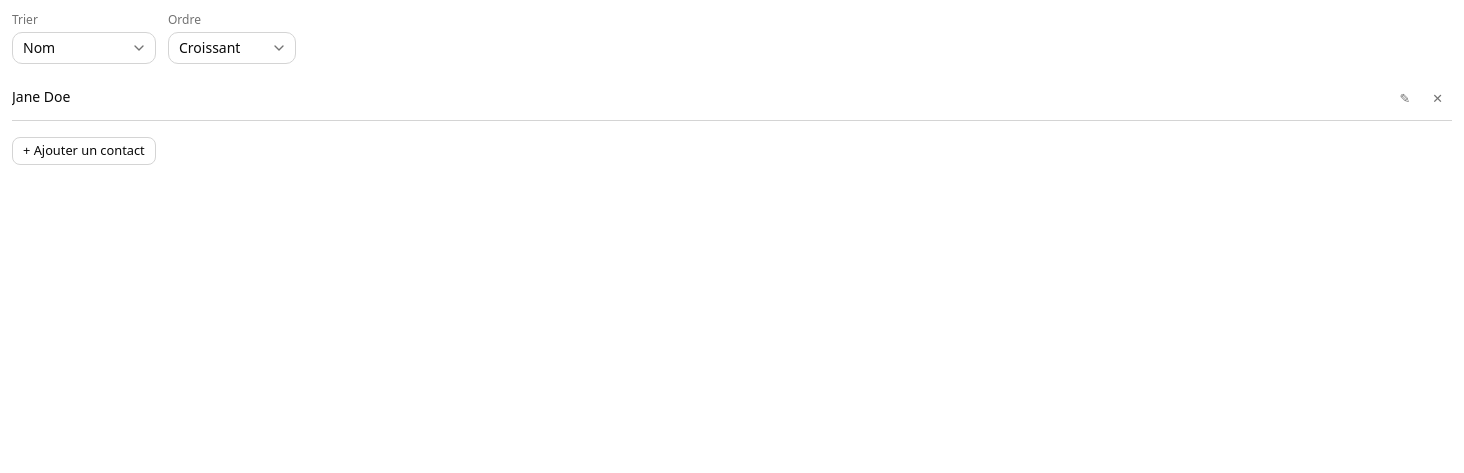
ContactsTab › renders French copy for the translated ContactRow child when locale is fr
Click the button "✎". click: [1405, 98]
box: [1390,84,1419,112]
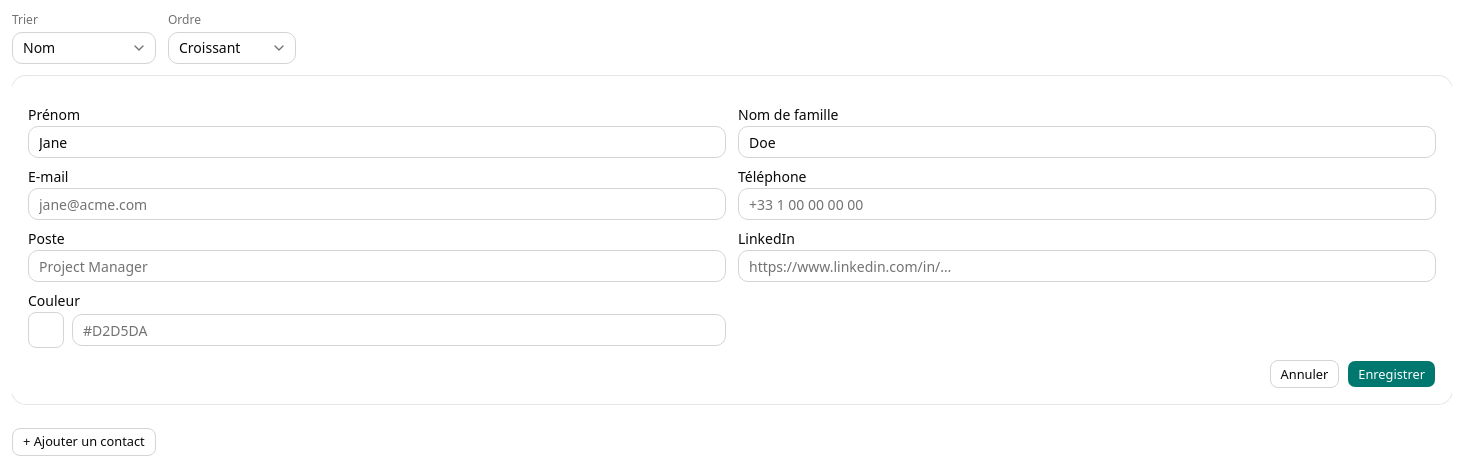
Expected: the field labelled "Prénom" is shown, [28,126,726,158]
